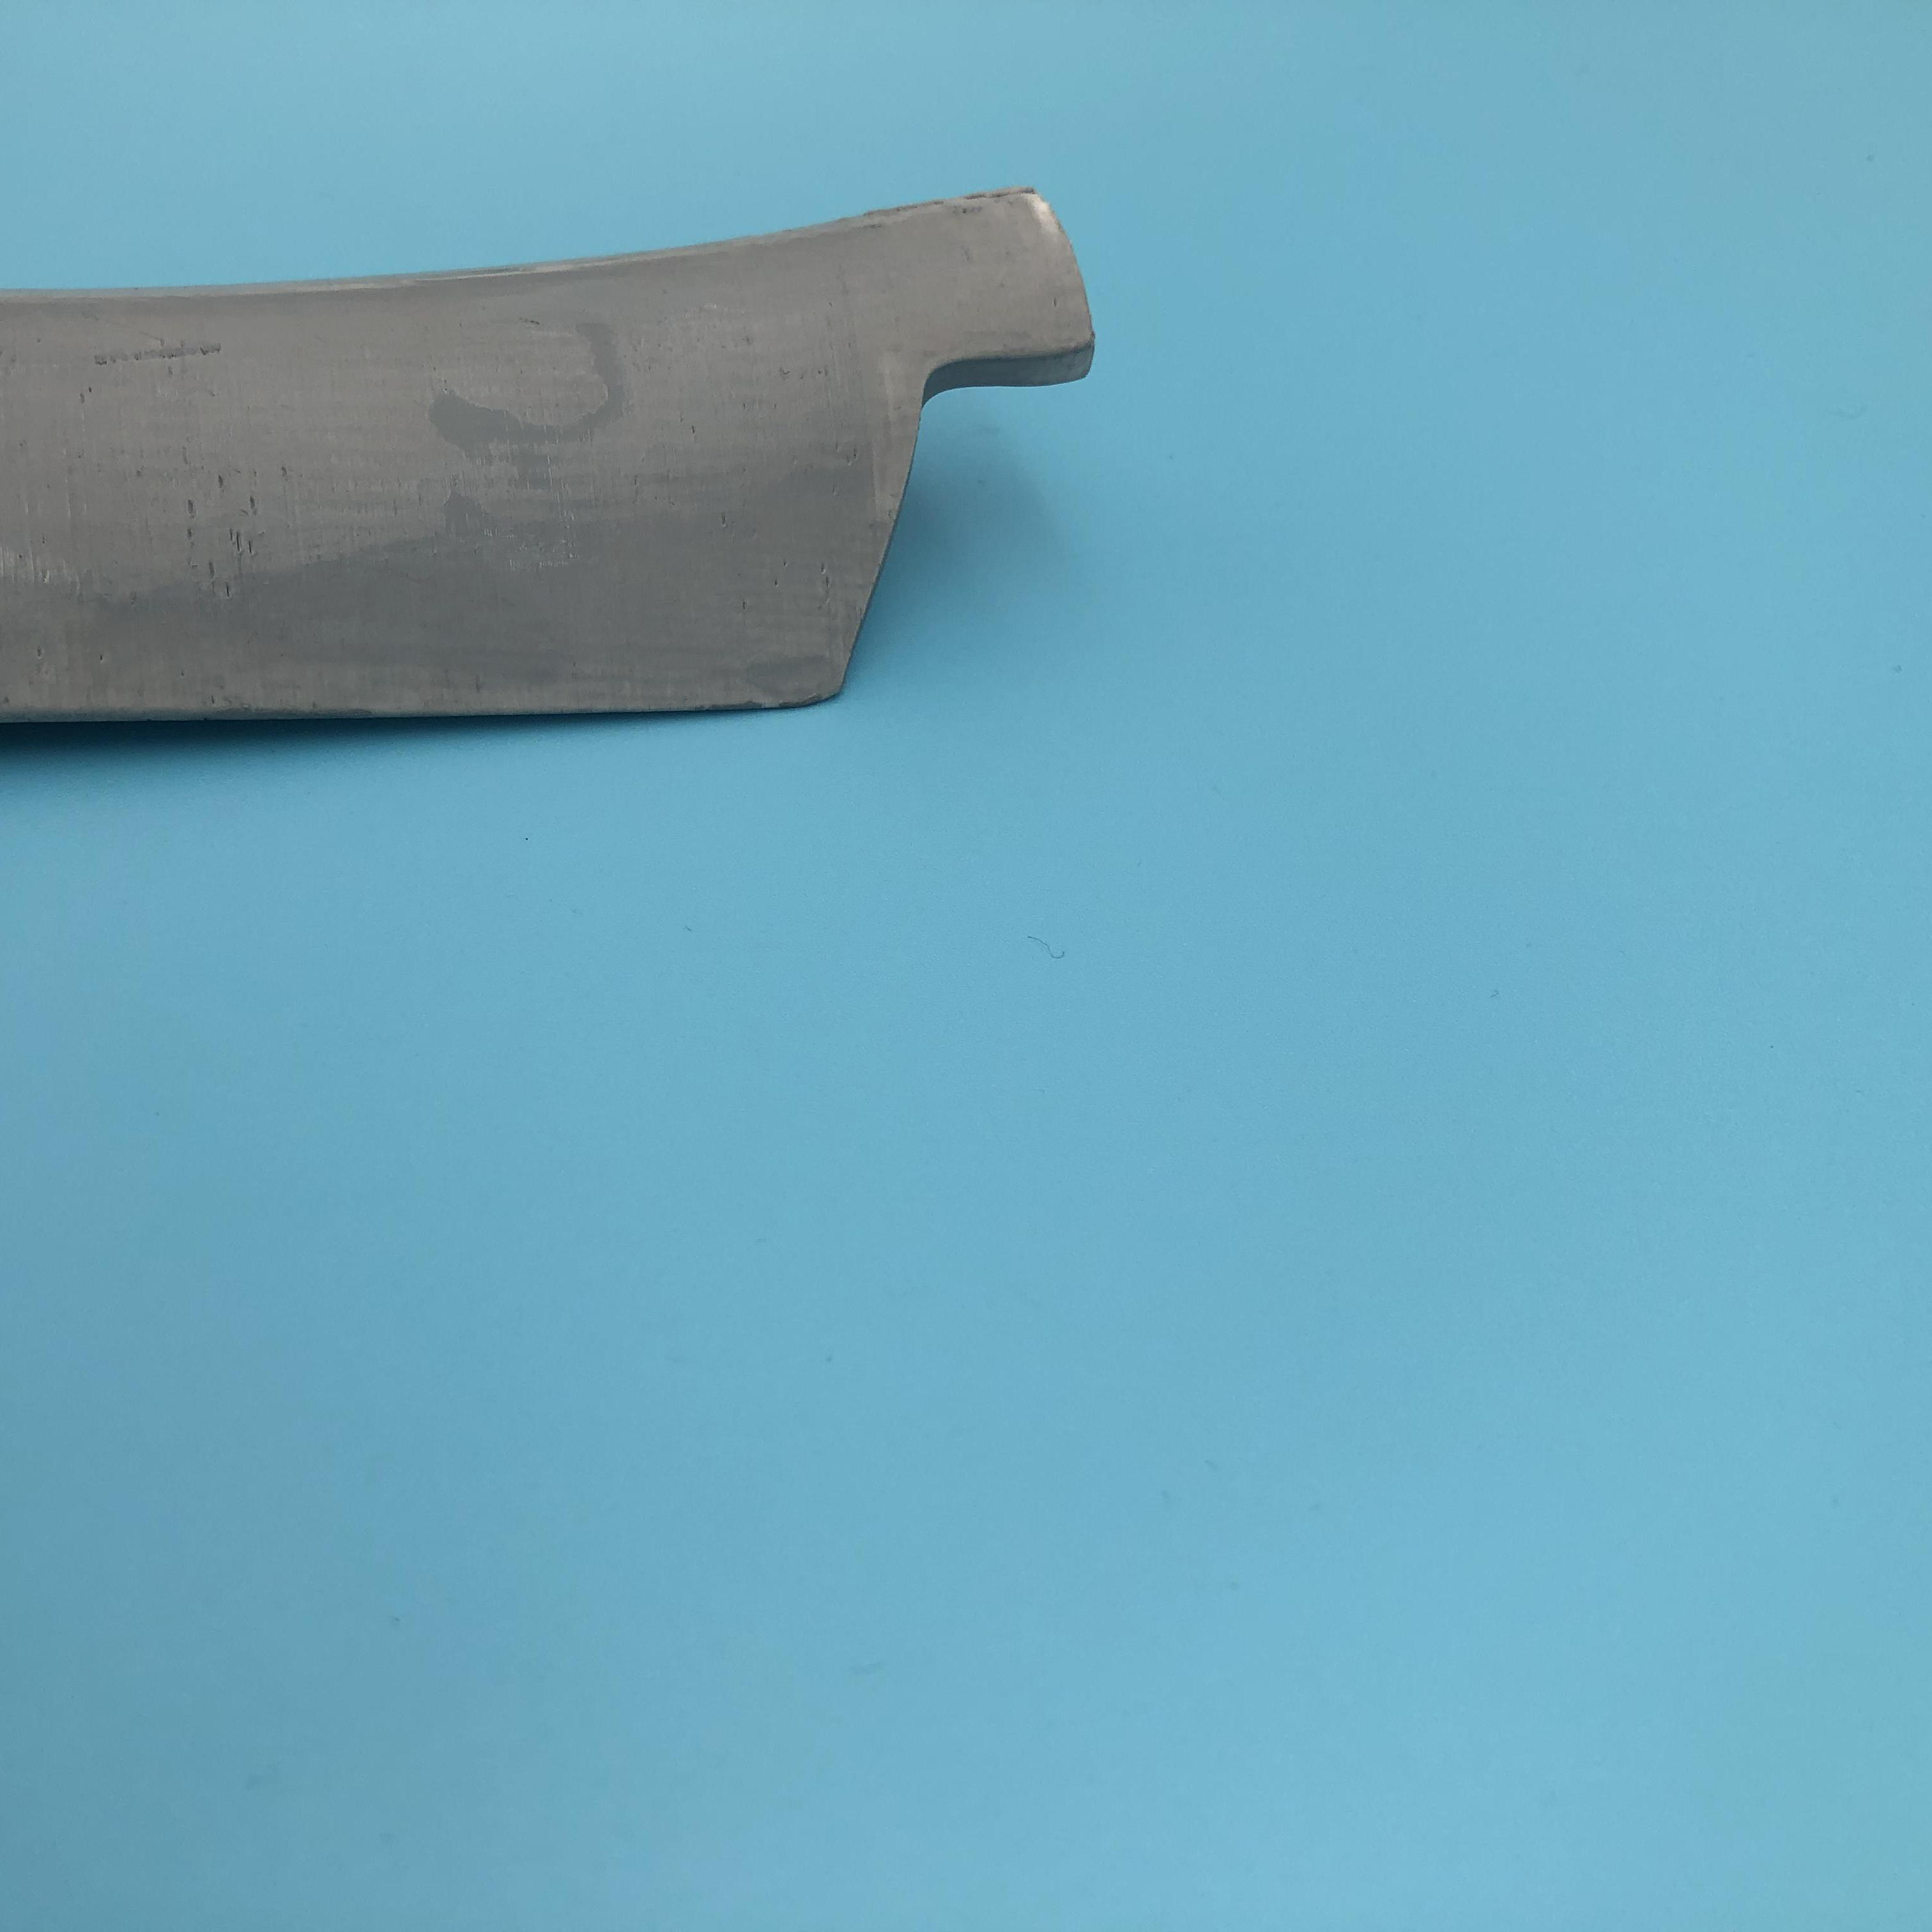fracture: (851, 320, 1069, 644)
